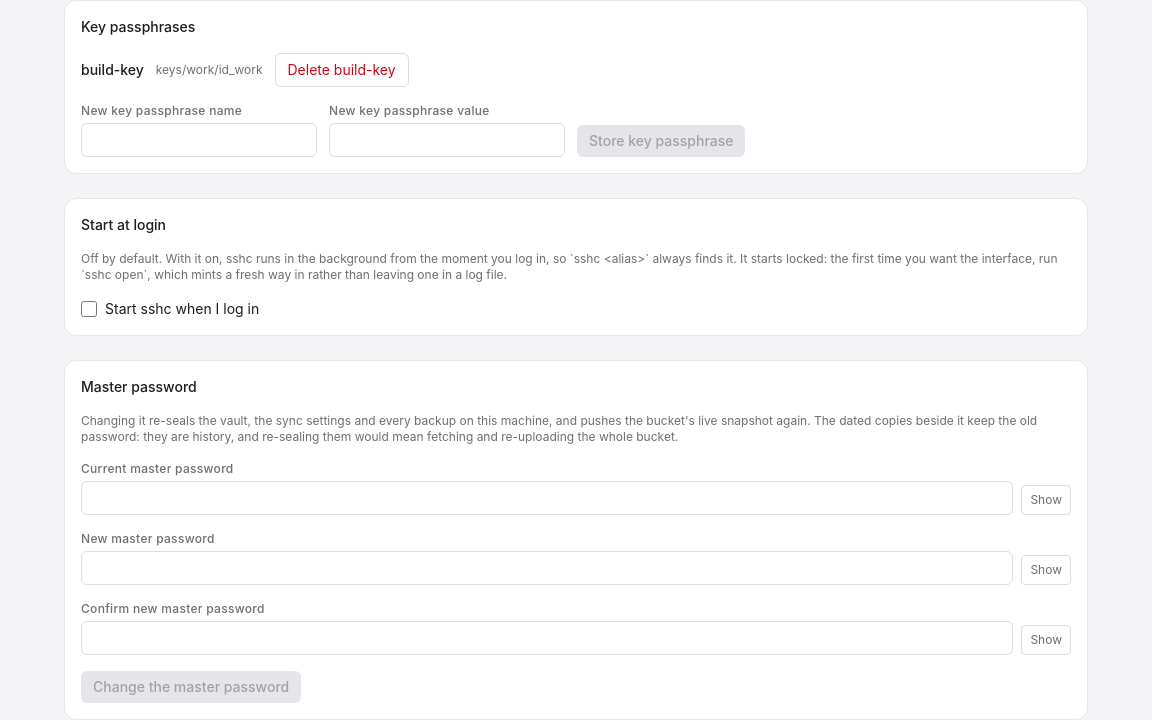
SecretsPanel › changes the master password and says whether the bucket followed
This screenshot has width=1152, height=720.
(page scrolled)
Expected: the element "Master password" is shown, [64,360,1088,719]
Type "the old one is long" into the password field labelled "Current master password" at [547, 498], box [81,481,1013,515]
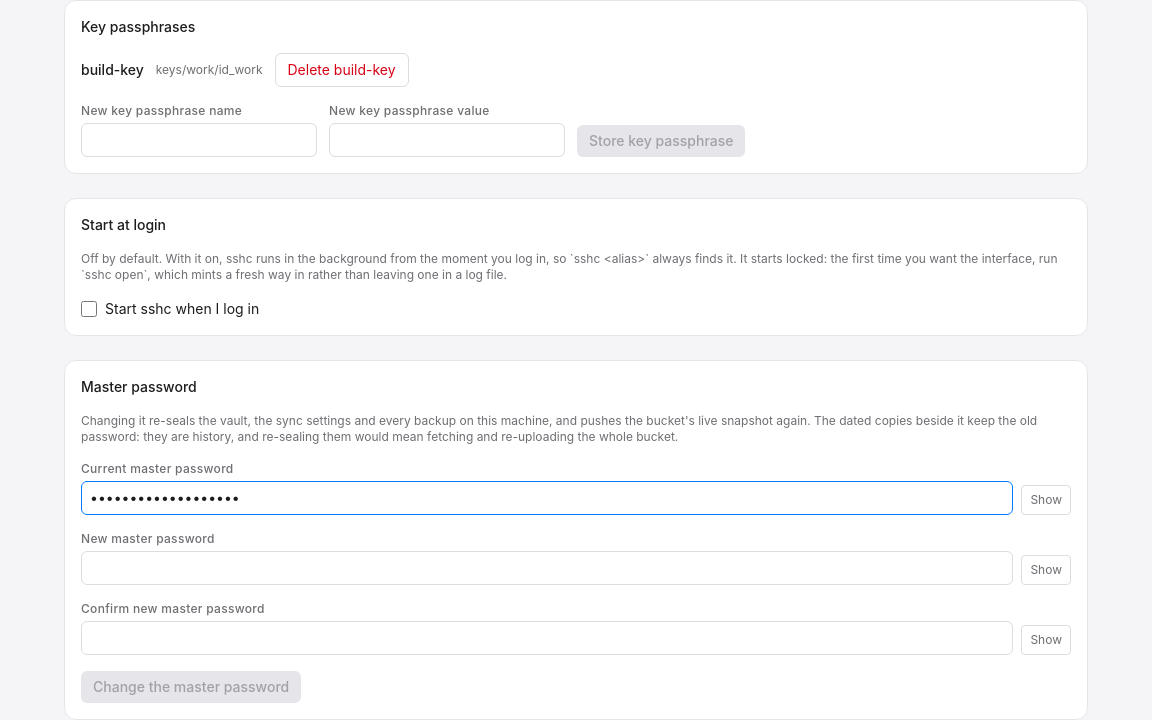
Type "the new one is long" into the password field labelled "New master password" at [547, 568], box [81,551,1013,585]
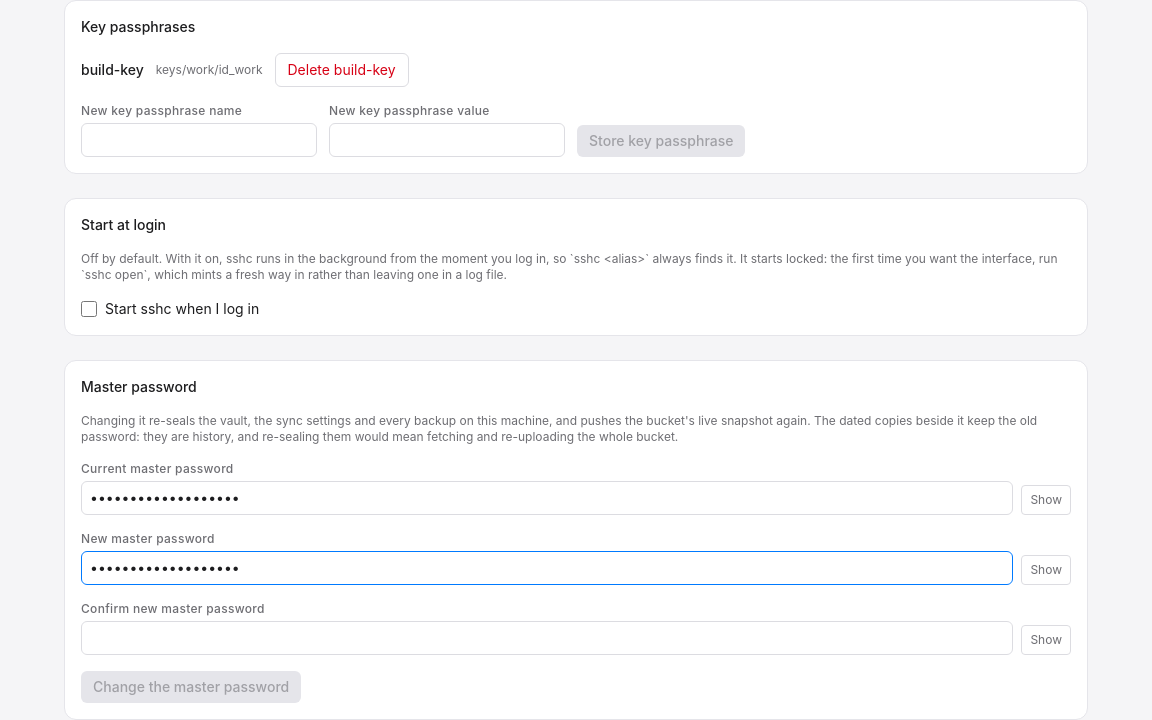
Expected: the button "Change the master password" is disabled, [81,671,301,703]
Type "the new one is long" into the password field labelled "Confirm new master password" at [547, 638], box [81,621,1013,655]
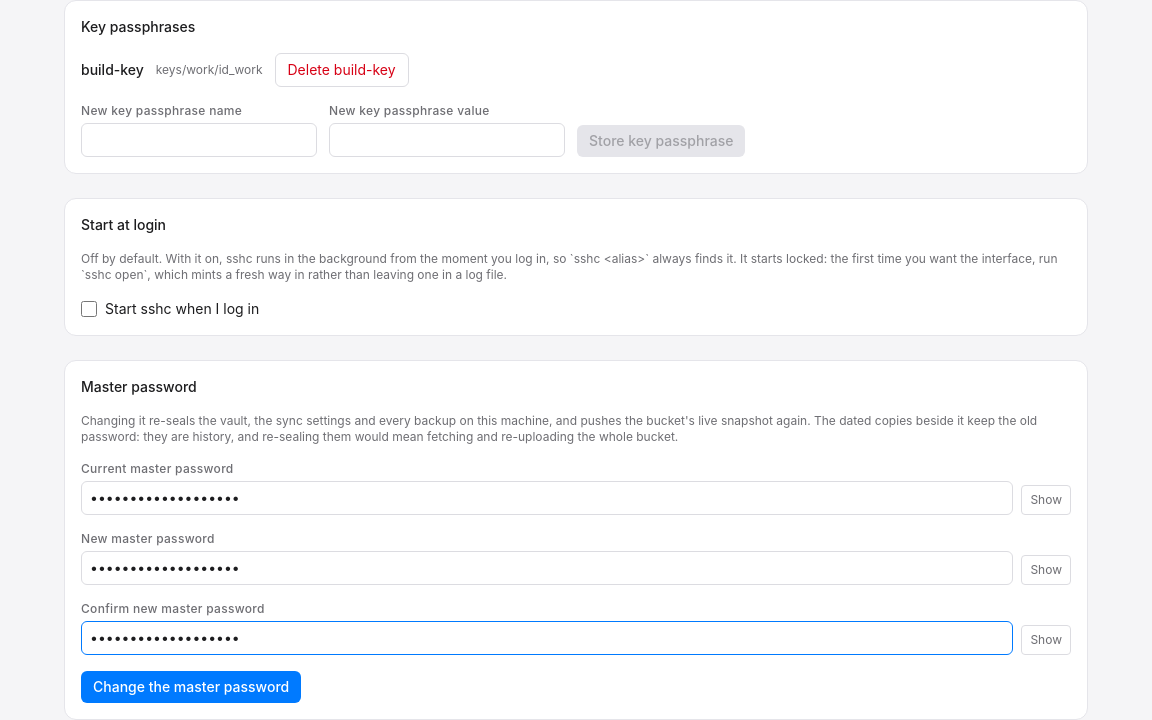
Click the button "Change the master password" at [191, 687], box [81,671,301,703]
(page scrolled)
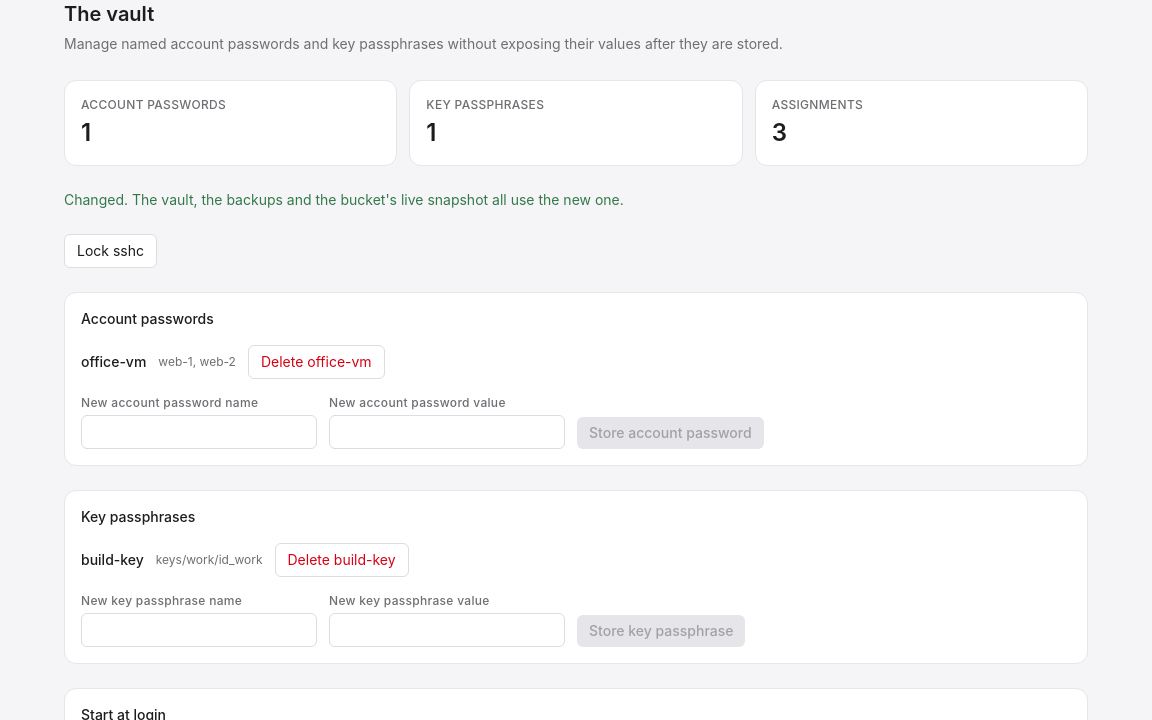
Result: the message shows "live snapshot" at [64,191,624,208]
